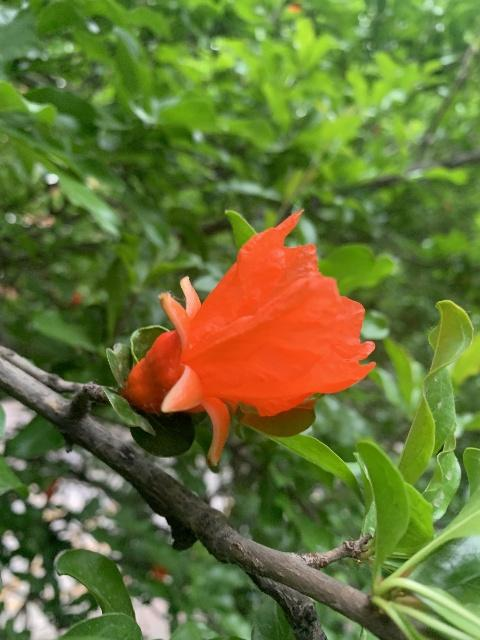flower: (123, 207, 376, 466)
